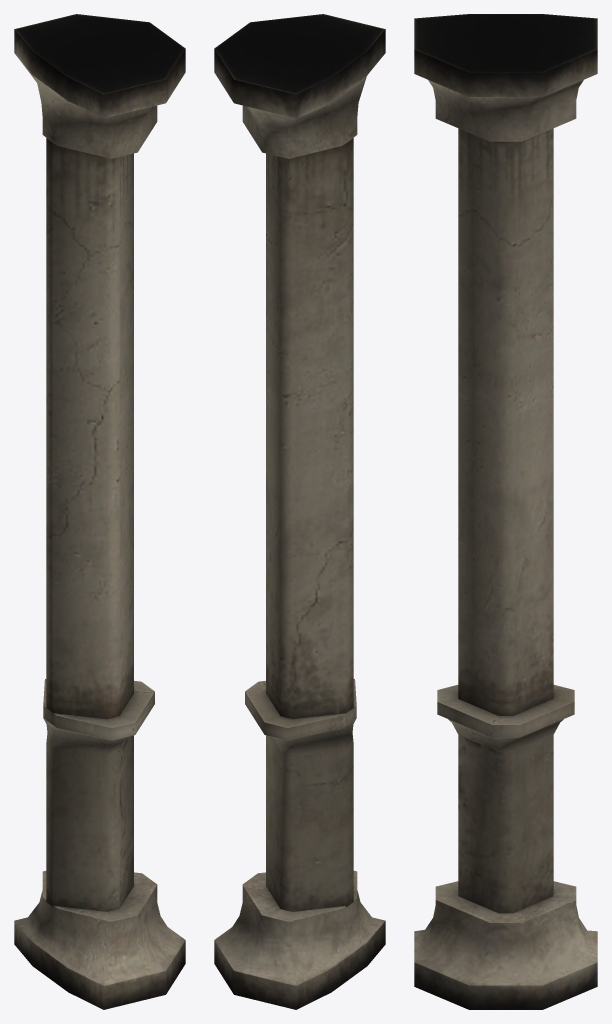
The model's file is welder_01_wall.DAE.
3 renders of one model, left to right at view 1: azimuth 30°, elevation 25°; view 2: azimuth 150°, elevation 25°; view 3: azimuth 270°, elevation 25°, orthographic. The views are drawn at different scales.
Visible parts, largest first — view 1: mansionbase_welder007; view 2: mansionbase_welder007; view 3: mansionbase_welder007.
Part boxes in pixels (x1,y1,x2,y2): mansionbase_welder007: (14, 14, 185, 1009); mansionbase_welder007: (214, 14, 385, 1009); mansionbase_welder007: (414, 14, 597, 1009).
Size of the model in its own units: 0.5384 by 4 by 0.7087.
